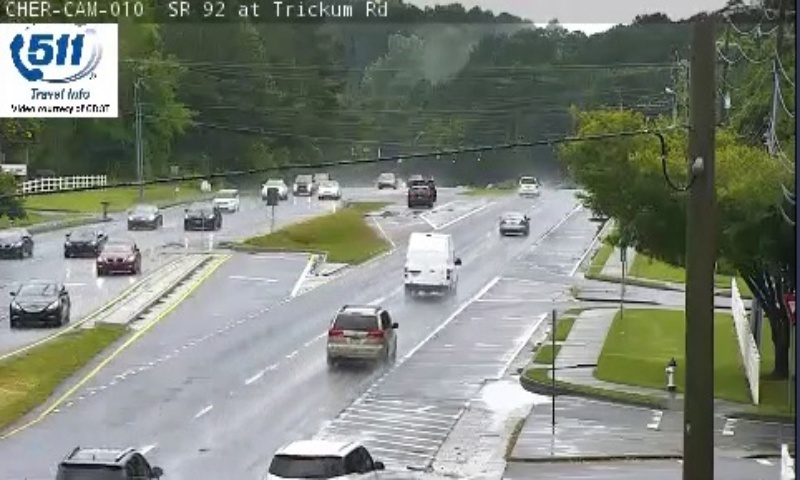car: (328, 306, 395, 360), (499, 211, 529, 234)
van: (404, 232, 454, 292)
